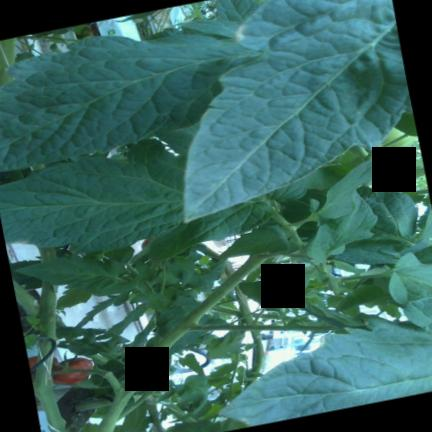6kp_peduncle: (85, 369, 150, 409)
6kp_petiole: (157, 300, 227, 345)
MainStem: (98, 252, 270, 432), (32, 352, 67, 432), (0, 38, 15, 86), (234, 284, 250, 317)
tomato: (52, 357, 93, 385), (379, 128, 417, 154), (375, 152, 408, 178), (28, 356, 37, 368)
